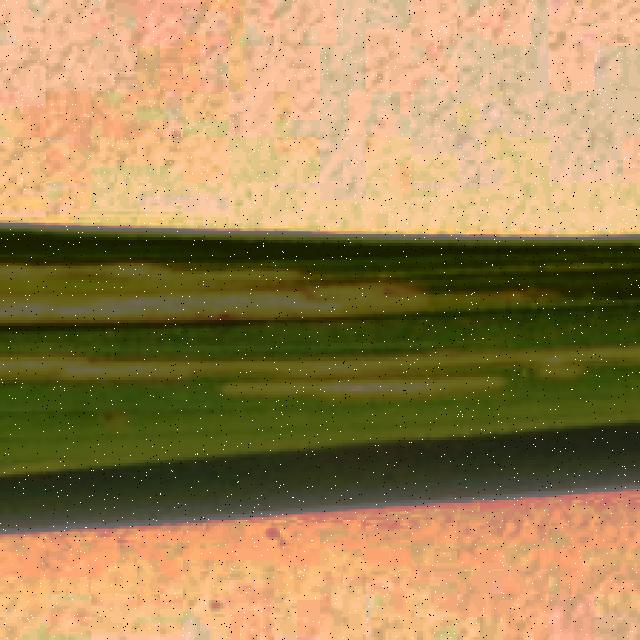unhealth: (2, 225, 640, 478)
